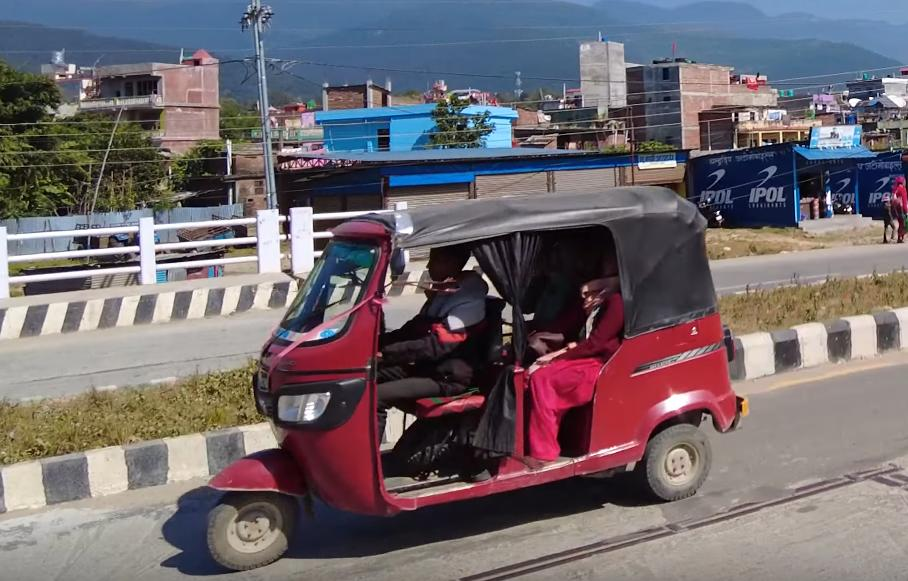auto_rickshaw: (189, 179, 748, 579)
